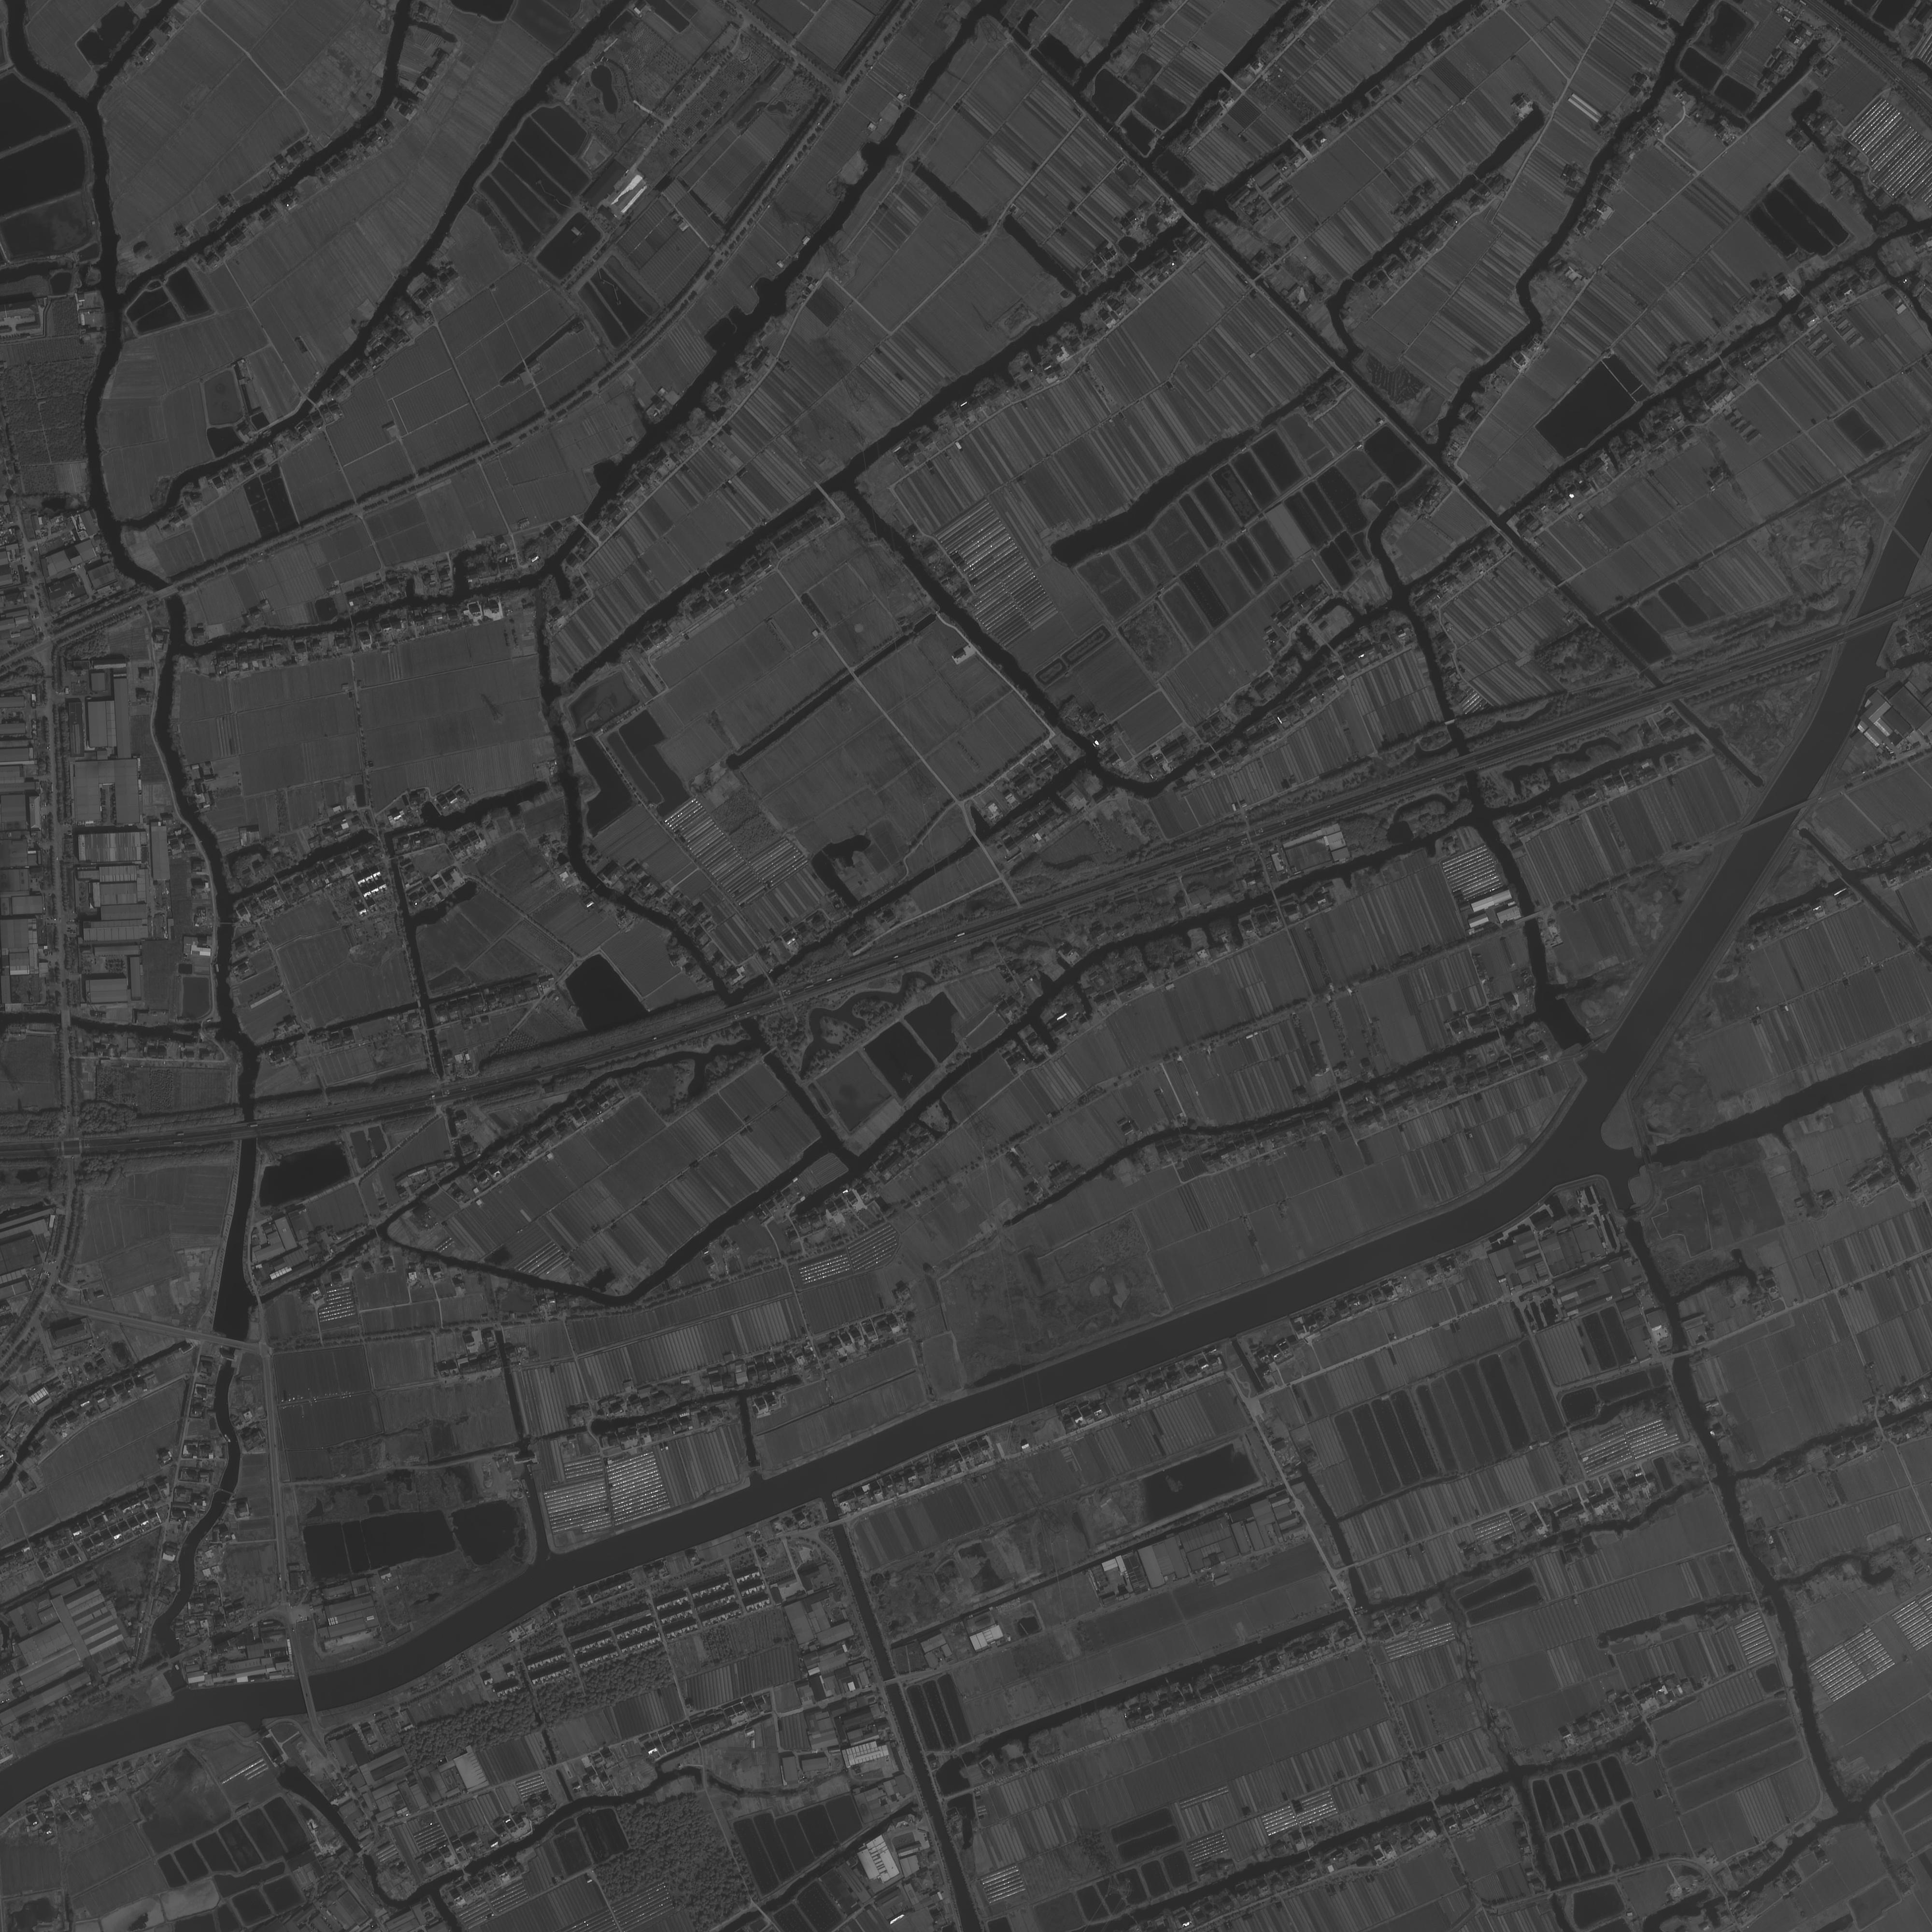ship: (1263, 281, 1270, 289), (1354, 1605, 1363, 1611)
